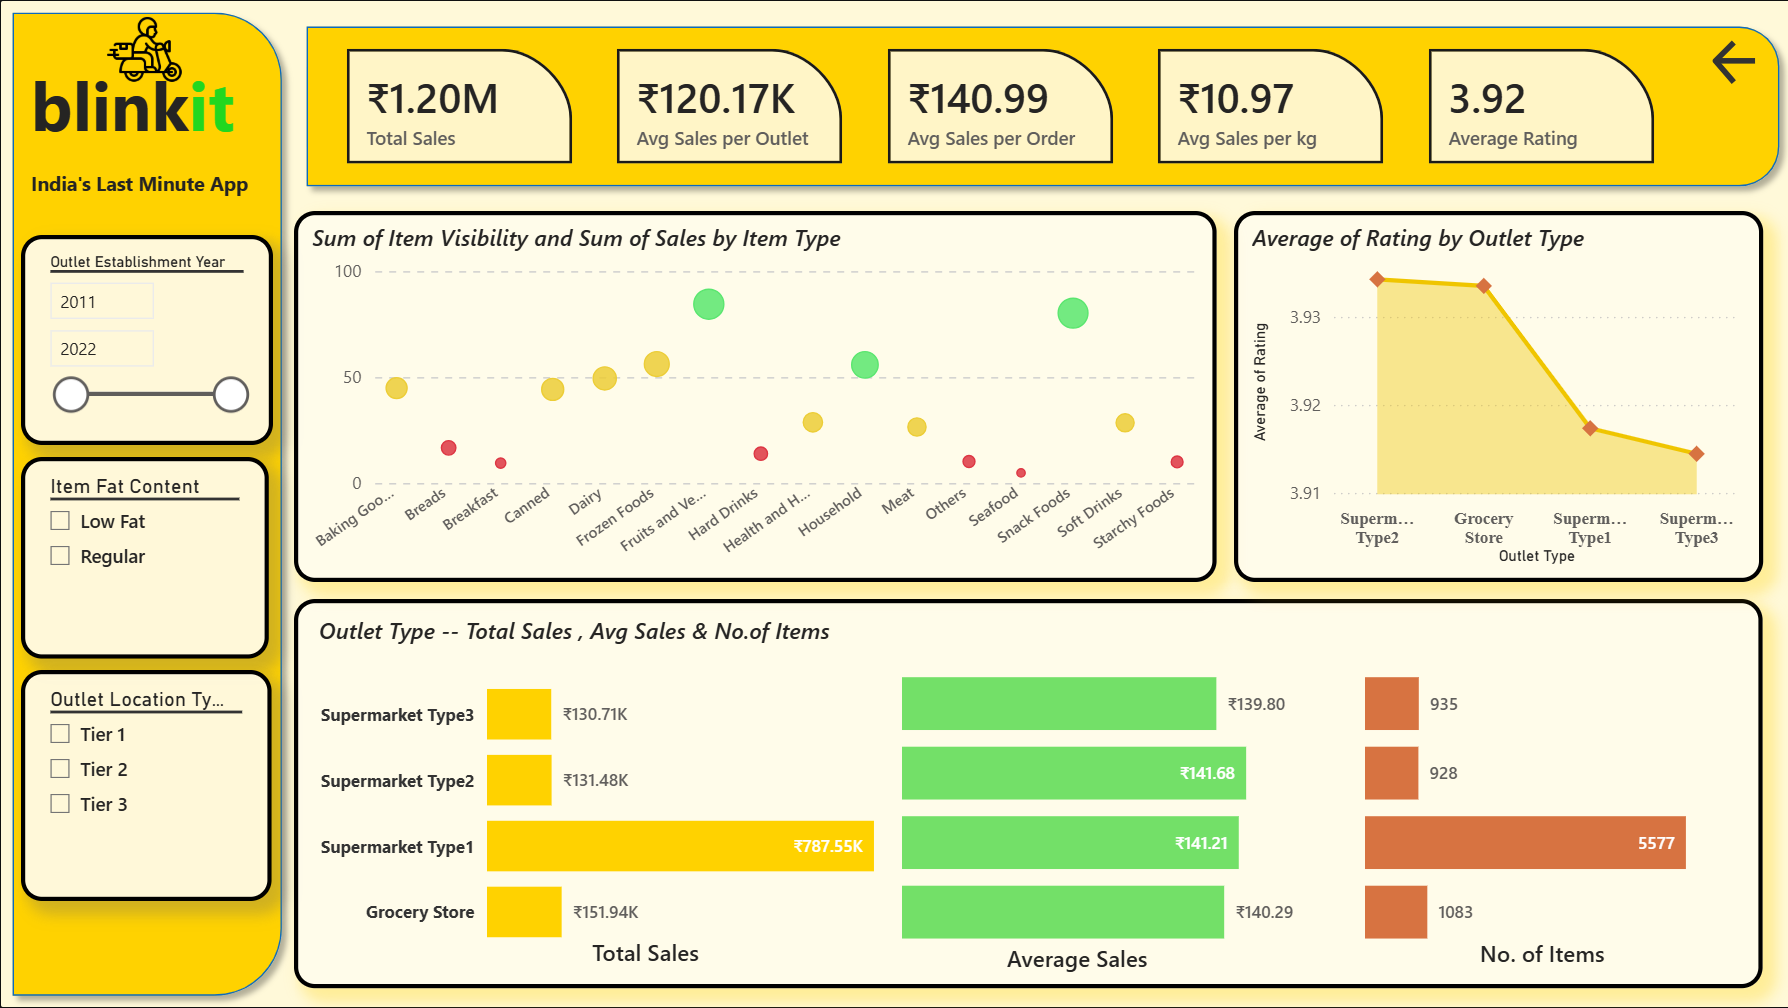

Layout of this report page (visuals, bound fields, positions):
{"tool":"powerbi","page":{"name":"Performance & Ops","canvas":[1280,720],"ordinal":1},"visuals":[{"type":"shape","box":[0,0,210.3,720.2],"z":0},{"type":"textbox","box":[17.1,36.7,178.5,79.5],"z":1000},{"type":"textbox","box":[17.1,116.2,177.3,34.2],"z":2000},{"type":"slicer","fields":{"Values":["BlinkIT Grocery Data.Outlet Establishment Year"]},"box":[14.7,167.5,179.8,150.4],"z":3000},{"type":"slicer","fields":{"Values":["BlinkIT Grocery Data.Item Fat Content"]},"box":[14.9,326.7,177.3,144.3],"z":4000},{"type":"slicer","fields":{"Values":["BlinkIT Grocery Data.Outlet Location Type"]},"box":[14.9,478.4,178.5,165.1],"z":5000},{"type":"shape","box":[210.3,9.8,1070,132.1],"z":6000},{"type":"cardVisual","fields":{"Data":["Measures_Table.Total Sales"]},"box":[230.6,17.6,195.7,116.2],"z":7000},{"type":"cardVisual","fields":{"Data":["Measures_Table.Average Sales per Outlet"]},"box":[423.8,17.6,195.7,116.2],"z":8000},{"type":"cardVisual","fields":{"Data":["Measures_Table.Avg_Sales_per_order"]},"box":[617,17.6,195.7,116.2],"z":9000},{"type":"cardVisual","fields":{"Data":["Measures_Table.Average Rating"]},"box":[1003.5,17.6,195.7,116.2],"z":10000},{"type":"cardVisual","fields":{"Data":["Measures_Table.Sales per kg"]},"box":[810.2,17.6,195.7,116.2],"z":11000},{"type":"image","box":[68.5,8.6,69.7,56.3],"z":12000},{"type":"scatterChart","fields":{"Size":["Sum(BlinkIT Grocery Data.Sales)"],"X":["BlinkIT Grocery Data.Item Type"],"Y":["Sum(BlinkIT Grocery Data.Item Visibility)"]},"box":[210.3,150.4,659.1,265.4],"z":14000},{"type":"shape","box":[210.3,428,1049.2,277.6],"z":15000},{"type":"lineChart","fields":{"Y":["Avg(BlinkIT Grocery Data.Rating)"],"Category":["BlinkIT Grocery Data.Outlet Type"]},"box":[881.7,150.4,377.9,265.4],"z":16000},{"type":"barChart","title":"Outlet Type -- Total Sales , Avg Sales & No.of Items ","fields":{"Category":["BlinkIT Grocery Data.Outlet Type"],"Y":["Measures_Table.Total Sales"]},"box":[222.6,439,456.1,255.6],"z":17000},{"type":"barChart","title":"Outlet Type -- Total Sales , Avg Sales & No.of Items ","fields":{"Category":["BlinkIT Grocery Data.Outlet Type"],"Y":["Measures_Table.Avg Sales per Order"]},"box":[639.5,470.8,293.5,206.7],"z":18000},{"type":"barChart","title":"Outlet Type -- Total Sales , Avg Sales & No.of Items ","fields":{"Category":["BlinkIT Grocery Data.Outlet Type"],"Y":["Measures_Table.No. of Items"]},"box":[969.7,470.8,271.5,206.7],"z":19000},{"type":"textbox","box":[399.9,664,122.3,30.6],"z":20000},{"type":"textbox","box":[698.2,668.9,141.8,30.6],"z":21000},{"type":"textbox","box":[1030.8,665.2,141.8,30.6],"z":22000},{"type":"actionButton","box":[1219.2,24.5,44,40.4],"z":22001}]}

Visuals, with their boxes in screenshot pixels (x1, y1, x2, y2), scaled from the page's 1280x720 canvas onto the 1788x1008 screenshot:
shape: 0:0:294:1007
textbox: 24:51:273:163
textbox: 24:163:272:211
slicer - BlinkIT Grocery Data.Outlet Establishment Year: 21:234:272:445
slicer - BlinkIT Grocery Data.Item Fat Content: 21:457:268:659
slicer - BlinkIT Grocery Data.Outlet Location Type: 21:670:270:901
shape: 294:14:1787:199
cardVisual - Measures_Table.Total Sales: 322:25:595:187
cardVisual - Measures_Table.Average Sales per Outlet: 592:25:865:187
cardVisual - Measures_Table.Avg_Sales_per_order: 862:25:1135:187
cardVisual - Measures_Table.Average Rating: 1402:25:1675:187
cardVisual - Measures_Table.Sales per kg: 1132:25:1405:187
image: 96:12:193:91
scatterChart - Sum(BlinkIT Grocery Data.Sales) x BlinkIT Grocery Data.Item Type: 294:211:1214:582
shape: 294:599:1759:988
lineChart - Avg(BlinkIT Grocery Data.Rating) x BlinkIT Grocery Data.Outlet Type: 1232:211:1760:582
"Outlet Type -- Total Sales , Avg Sales & No.of Items " barChart: 311:615:948:972
"Outlet Type -- Total Sales , Avg Sales & No.of Items " barChart: 893:659:1303:948
"Outlet Type -- Total Sales , Avg Sales & No.of Items " barChart: 1355:659:1734:948
textbox: 559:930:729:972
textbox: 975:936:1173:979
textbox: 1440:931:1638:974
actionButton: 1703:34:1765:91
